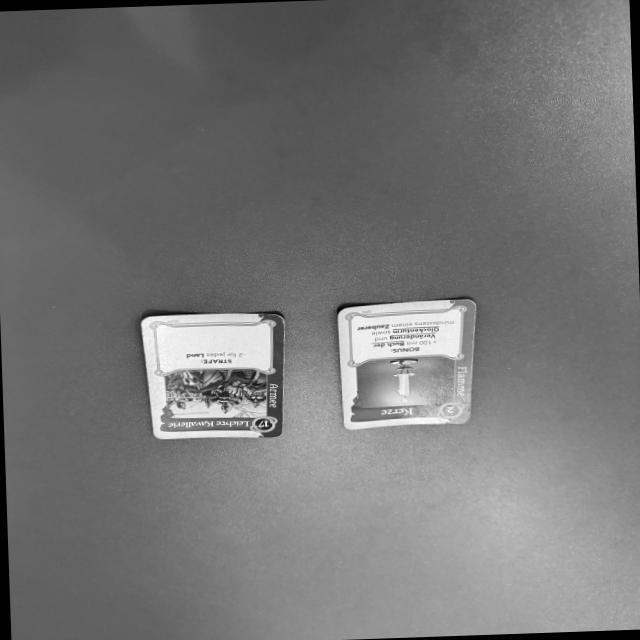Candle: (336, 298, 474, 431)
Light Cavalry: (140, 309, 287, 441)
